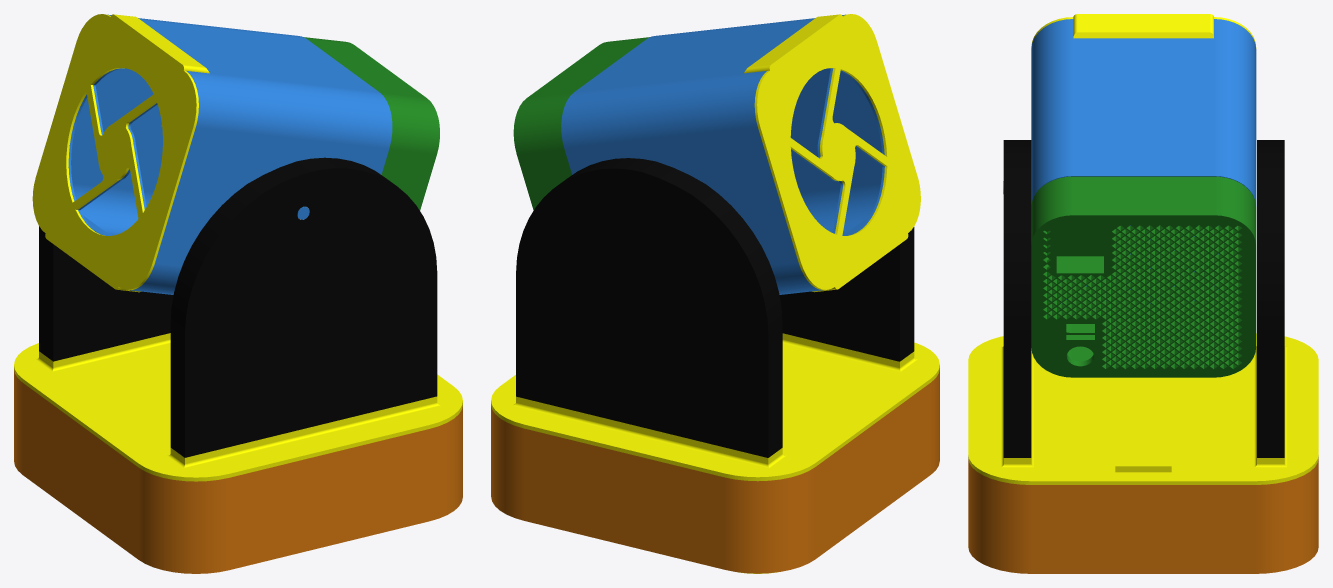
Rendered from PreviewRobot.glb.
The picture shows the model from 3 angles, left to right: view 1: azimuth 30°, elevation 25°; view 2: azimuth 150°, elevation 25°; view 3: azimuth 270°, elevation 25°; orthographic projection. The views are drawn at different scales.
Parts seen in each view (by area): view 1: Solid1 (×4), Solid2, Solid3; view 2: Solid1 (×4), Solid2, Solid3; view 3: Solid1 (×4), Solid3, Solid2.
Boxes of the visible parts, x1,y1,x2,y2 form: Solid1 (×4): [14, 14, 462, 573]; Solid2: [39, 157, 437, 457]; Solid3: [14, 333, 462, 481]; Solid1 (×4): [491, 14, 939, 573]; Solid2: [516, 158, 914, 457]; Solid3: [491, 333, 939, 481]; Solid1 (×4): [968, 14, 1318, 573]; Solid3: [968, 333, 1318, 484]; Solid2: [1003, 140, 1284, 457].
Bounding box in the file's own units: 0.25 × 0.3528 × 0.25.
